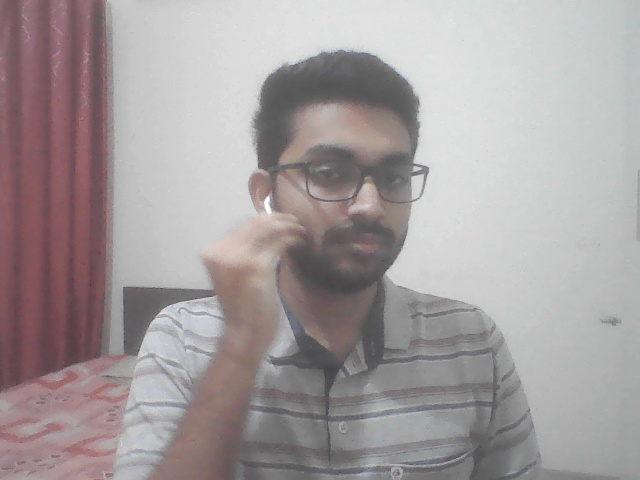home: (192, 207, 311, 394)
